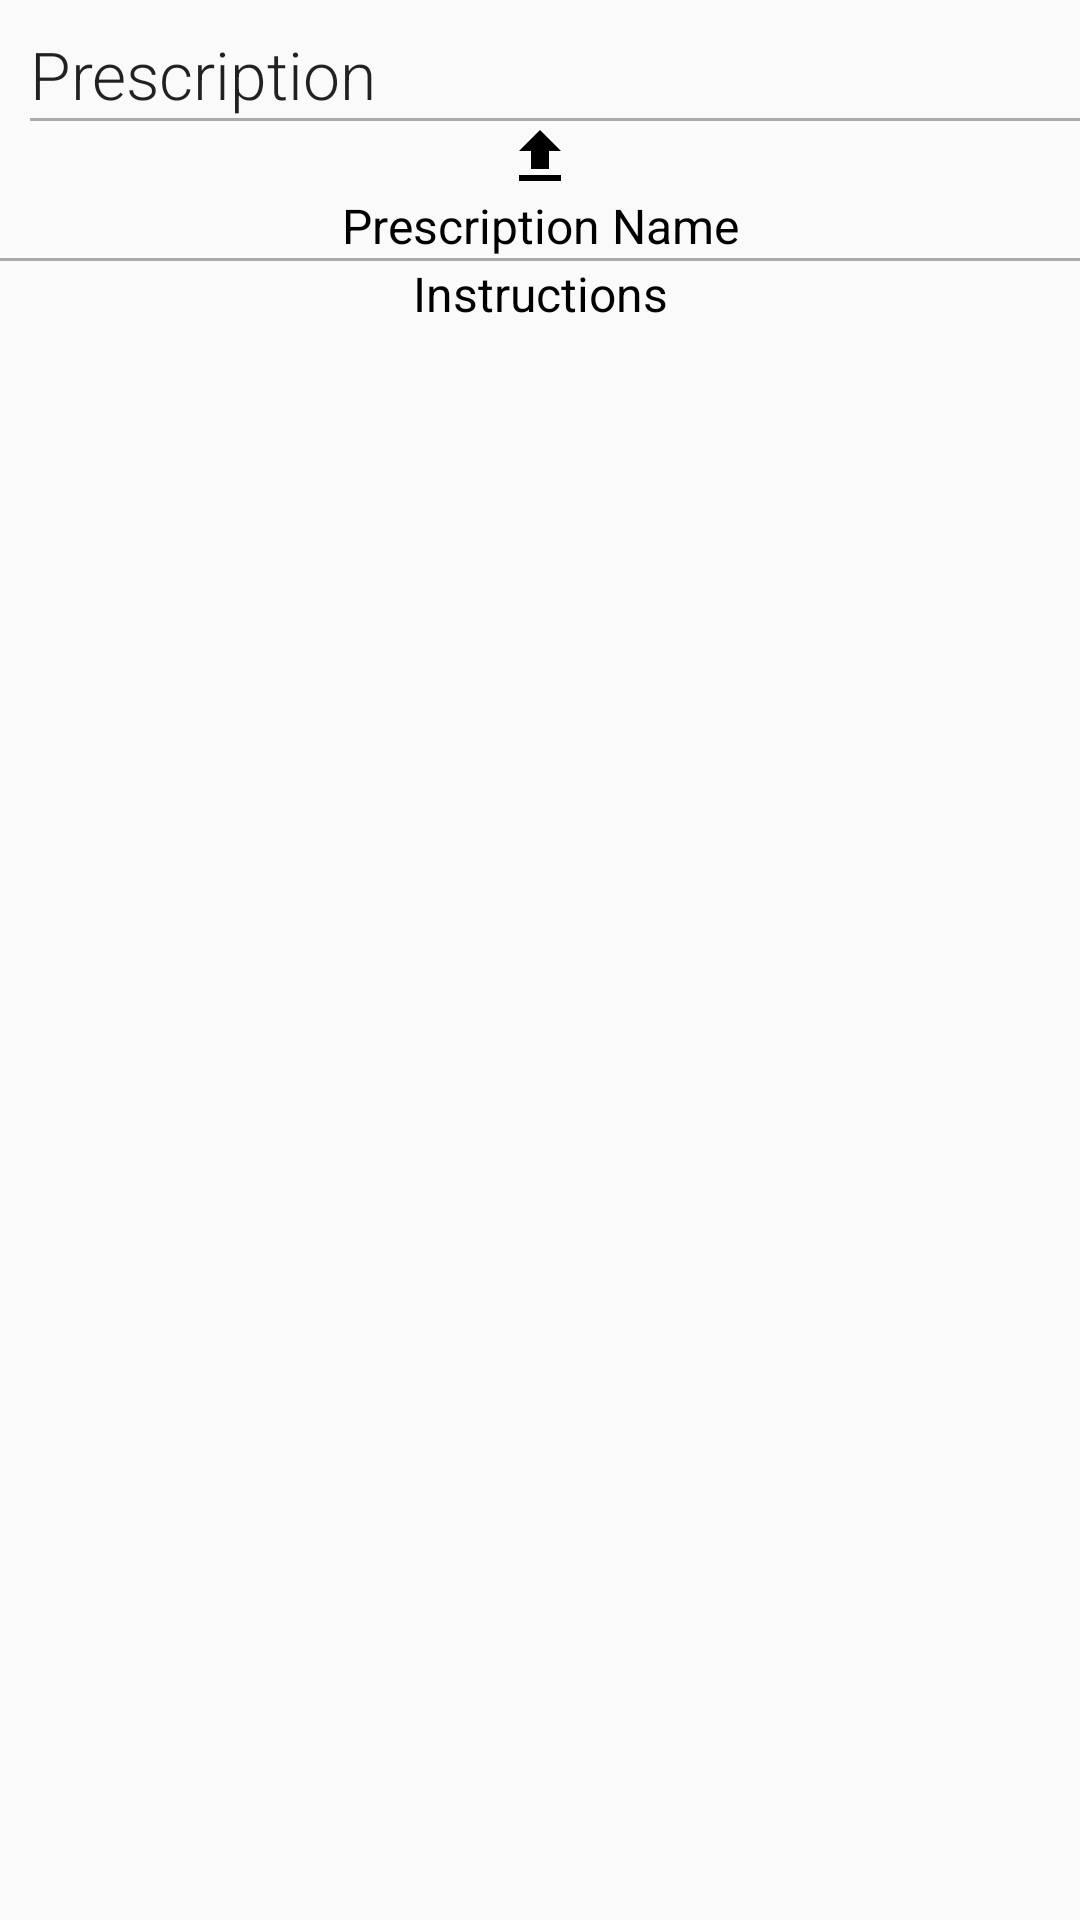

Named icons in this screenshot (1080*1920) and their centers, [x,y]:
file upload: [540,155]
